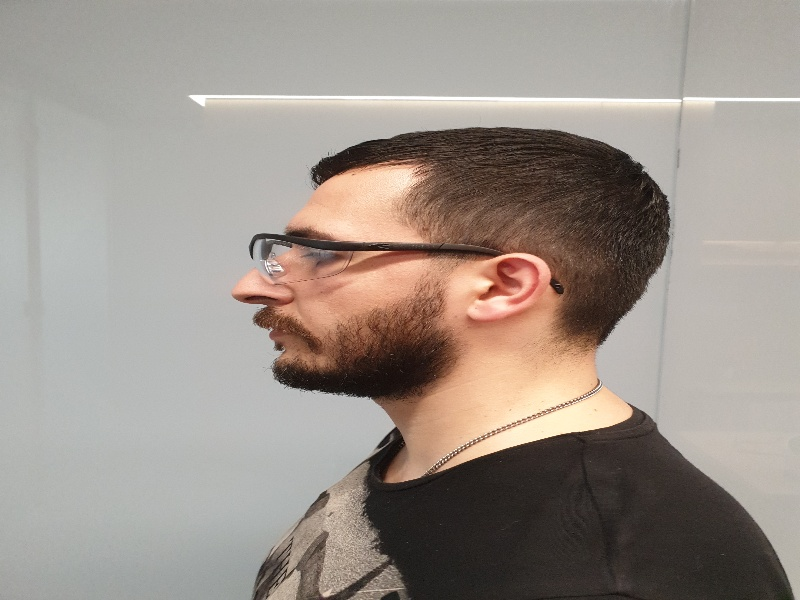Gozluk: (249, 232, 499, 286)
